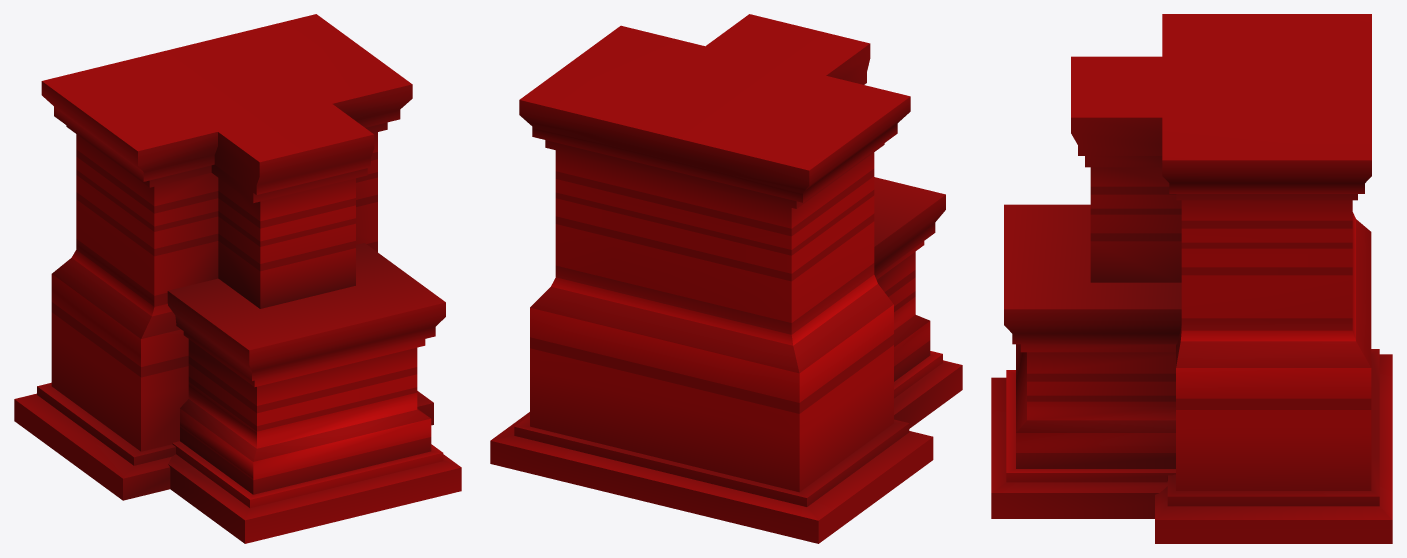
The model's file is buildings-ruins-templeruins_v9.fbx.
3 renders of one model, left to right at view 1: azimuth 30°, elevation 25°; view 2: azimuth 150°, elevation 25°; view 3: azimuth 270°, elevation 25°, orthographic. The views are drawn at different scales.
Parts seen in each view (by area): view 1: TempleRuins_v9; view 2: TempleRuins_v9; view 3: TempleRuins_v9.
Boxes of the visible parts, <box> form: TempleRuins_v9: <box>14,14,461,543</box>; TempleRuins_v9: <box>490,14,962,543</box>; TempleRuins_v9: <box>991,14,1392,543</box>.
Bounding box in the file's own units: 8.12 × 8.54 × 8.3.
